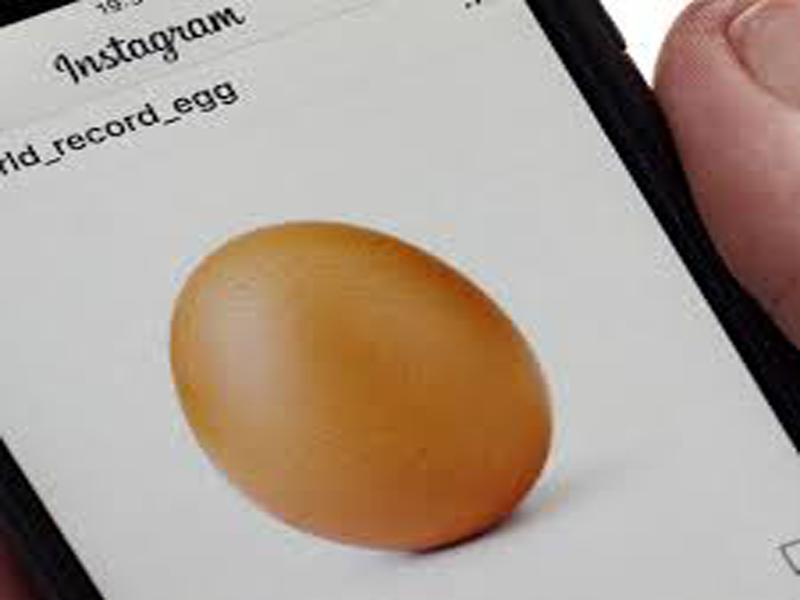Eggs: (171, 221, 551, 549)
